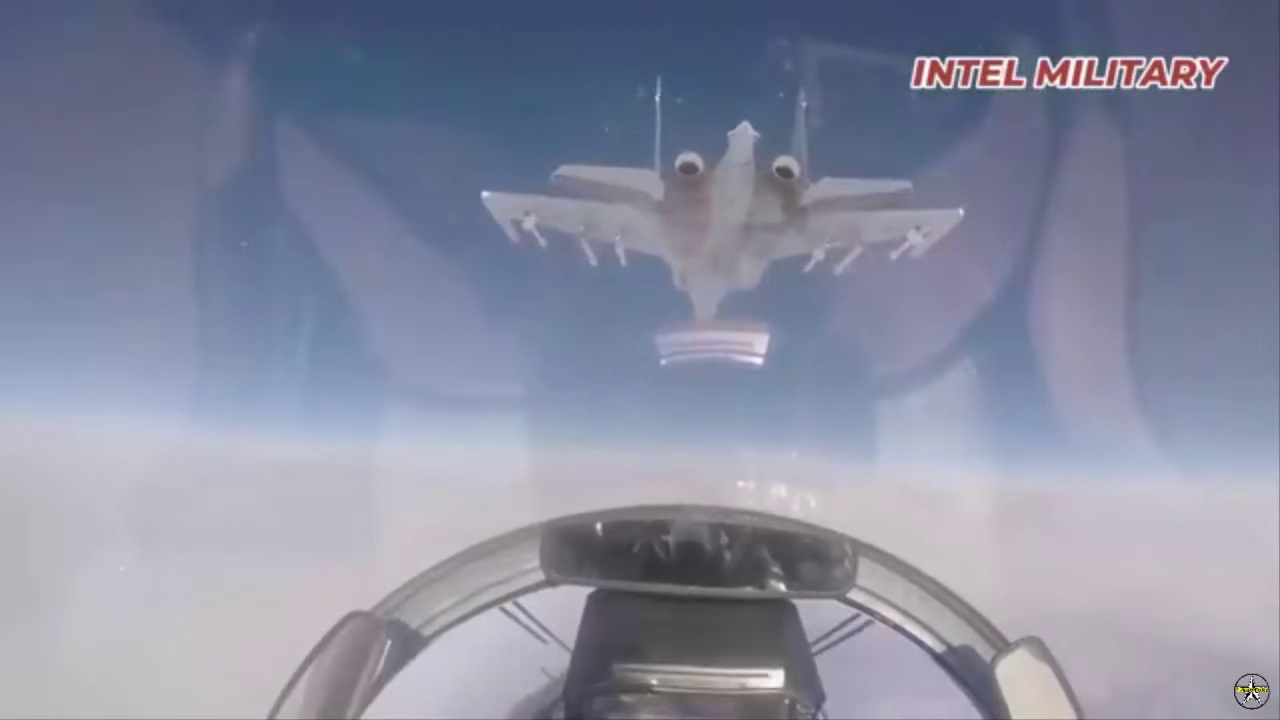Su35: (473, 64, 973, 383)
